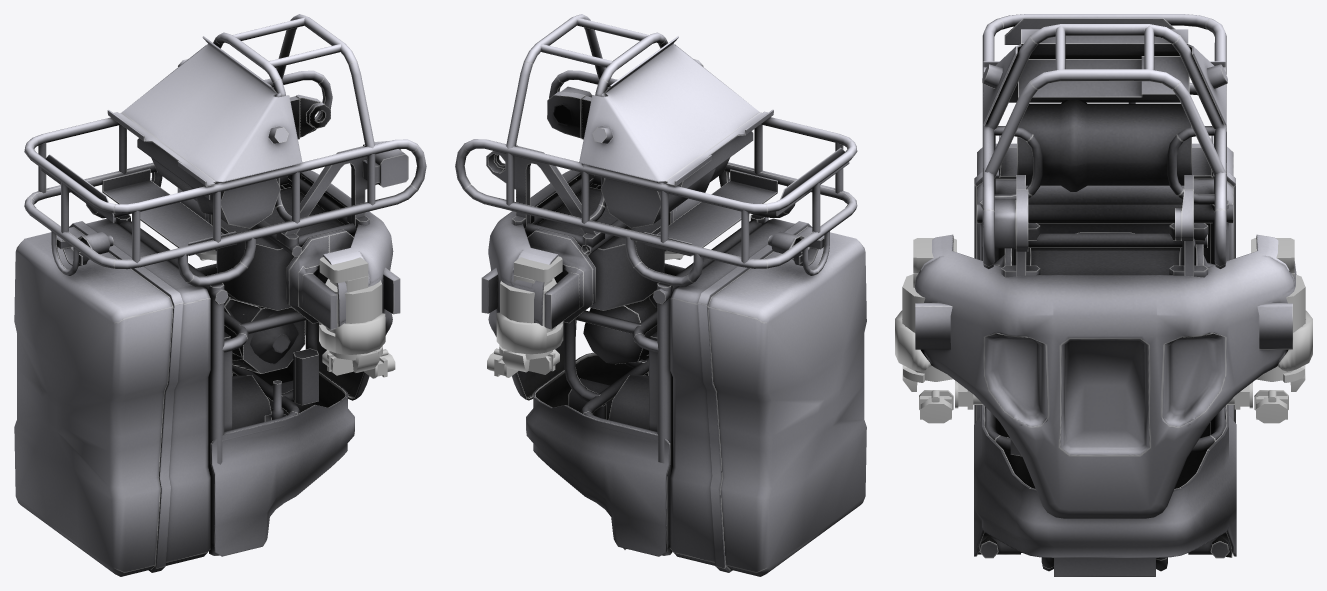
Rendered from utorso.dae.
3 views of the same model, side by side, from view 1: azimuth 30°, elevation 25°; view 2: azimuth 150°, elevation 25°; view 3: azimuth 270°, elevation 25° (orthographic). The views are drawn at different scales.
Visible parts, largest first — view 1: utorso; view 2: utorso; view 3: utorso.
Part boxes in pixels (x1,y1,x2,y2): utorso: (14, 14, 426, 576); utorso: (455, 14, 866, 576); utorso: (895, 14, 1312, 576).
Bounding box in the file's own units: 0.6238 × 0.5601 × 0.8446.
